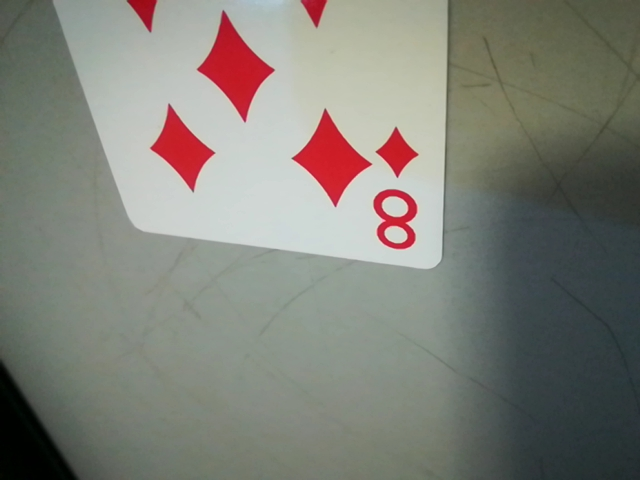fk 8: (362, 119, 438, 263)
